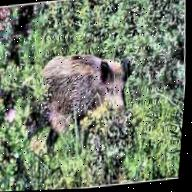boar: (23, 41, 138, 160)
